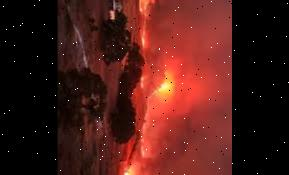fire: (129, 0, 183, 97)
